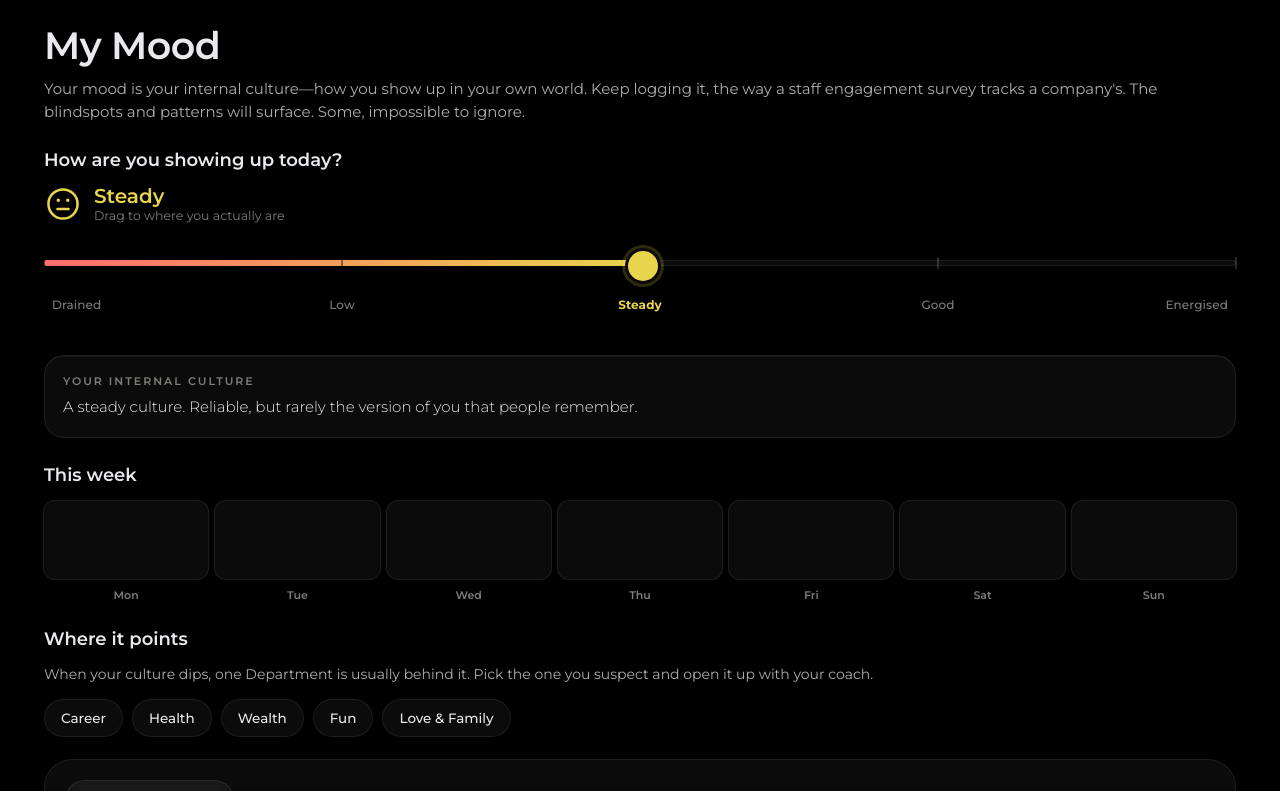
MoodScreen › logs today’s mood when a notch label is clicked, and shows the toast
Notch labels render the mood names as 44px-tall buttons under the slider track.
Click the button "Energised": (1197, 313) 1157,291 -> 1236,335
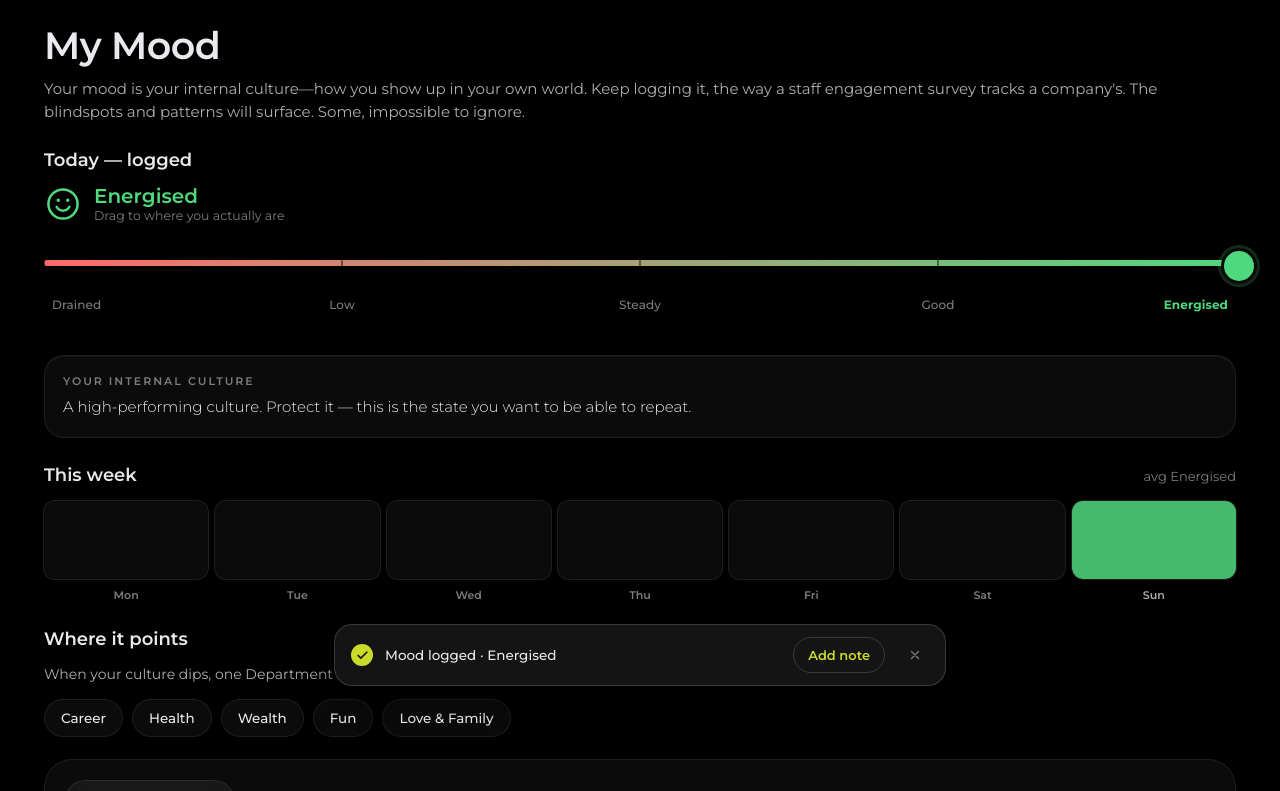
Result: the text "Mood logged · Energised" is shown at 385,647 -> 556,663
